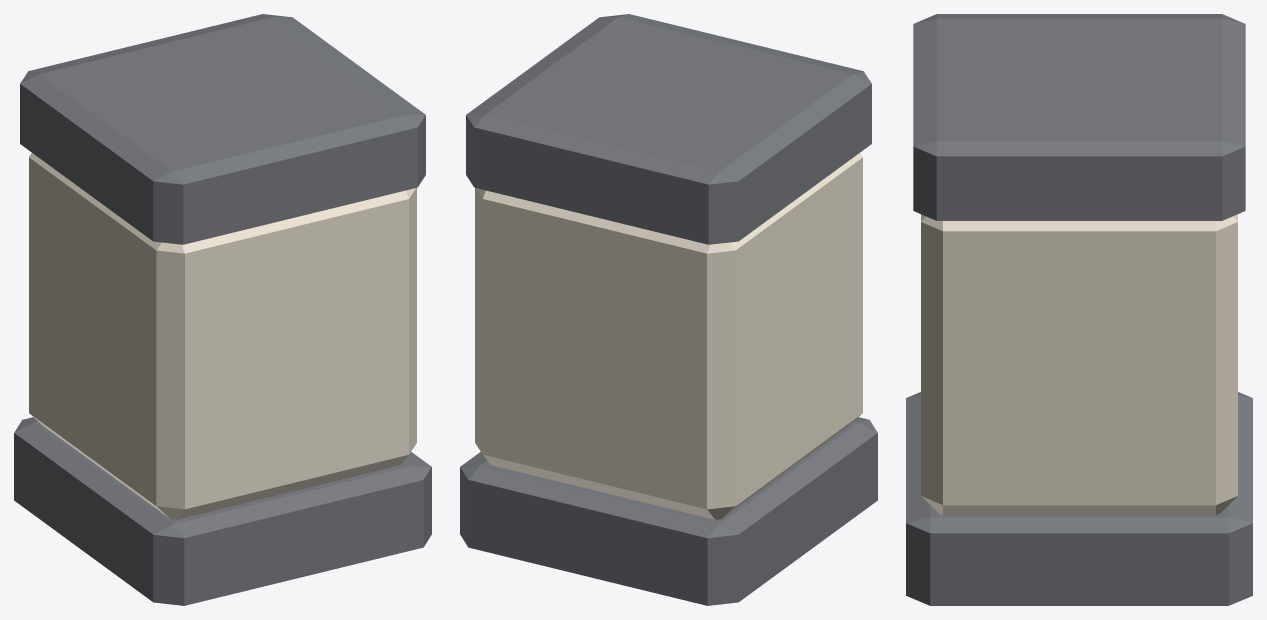
The model's file is b20_event_tent_ballast_water_tank.glb.
The picture shows the model from 3 angles, left to right: view 1: azimuth 30°, elevation 25°; view 2: azimuth 150°, elevation 25°; view 3: azimuth 270°, elevation 25°; orthographic projection. The views are drawn at different scales.
Parts seen in each view (by area): view 1: b20_event_tent_ballast_water_tank; view 2: b20_event_tent_ballast_water_tank; view 3: b20_event_tent_ballast_water_tank.
Boxes of the visible parts, <box> form: b20_event_tent_ballast_water_tank: <box>14,14,431,605</box>; b20_event_tent_ballast_water_tank: <box>460,14,877,605</box>; b20_event_tent_ballast_water_tank: <box>906,14,1252,605</box>.
Size of the model in its own units: 0.72 by 1.06 by 0.725.
